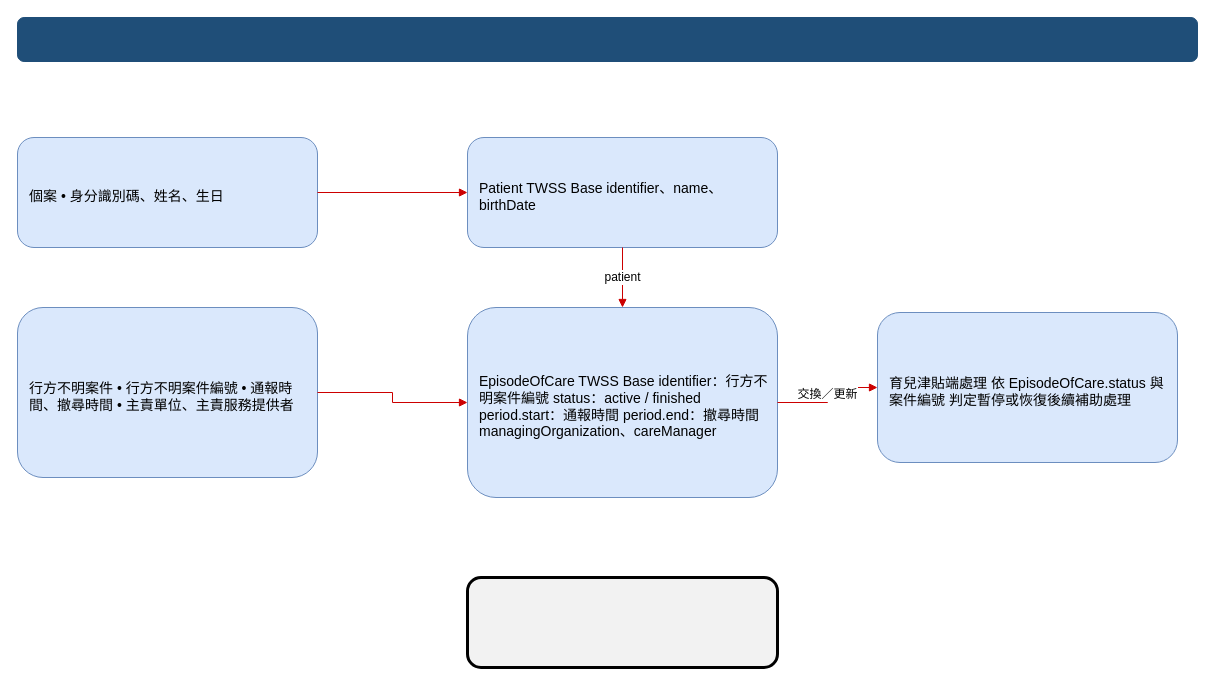
Some shapes in this 1215 by 686 pixel diagram are drawn without their labels. The box of each missing label's shape, as (x1, y1, x2, y2) in pixels:
Profile 原生／交換必填欄位 • EpisodeOfCare.patient → Patient • EpisodeOfCare.status: (466, 576, 778, 668)
脆家 → 育兒津貼：行方不明案件與撤尋（視覺化邏輯模型草稿）: (16, 16, 1198, 62)
